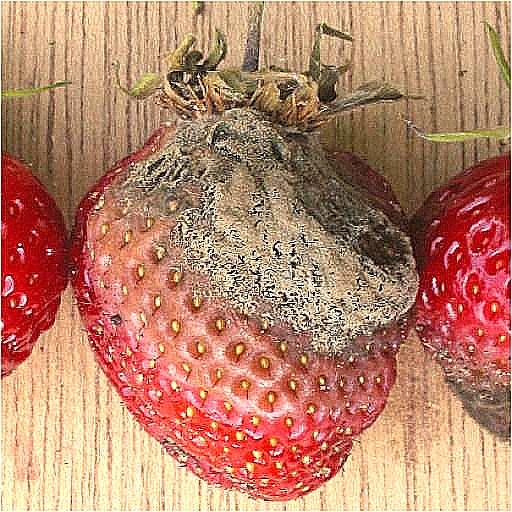Gray Mold: (69, 72, 420, 500), (410, 275, 511, 445)
